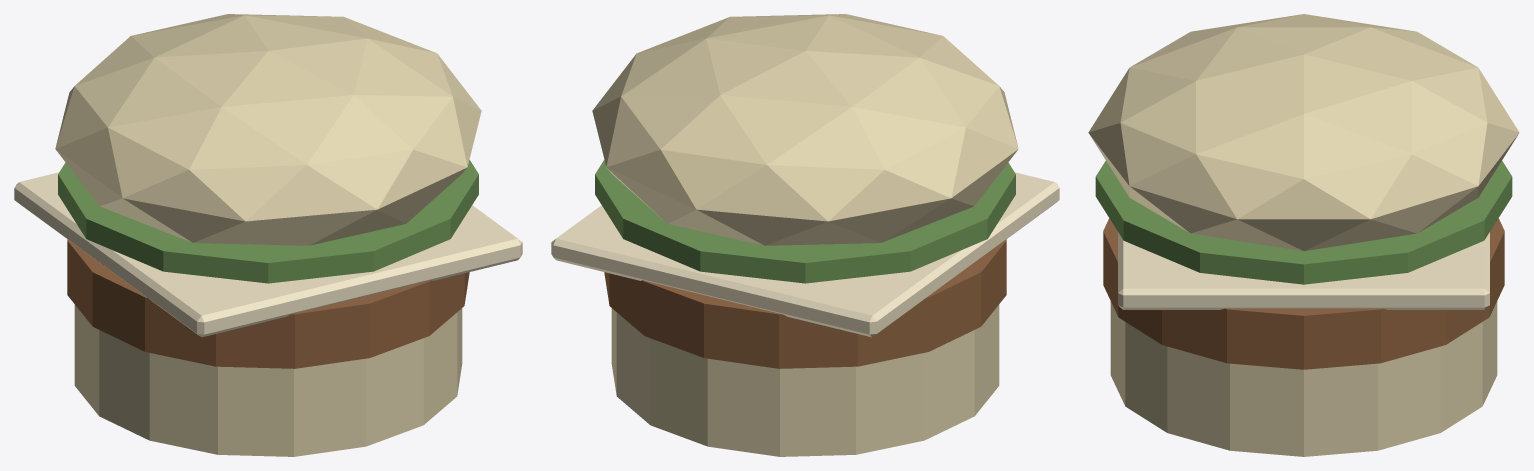
File: Burger_A.glb
3 views of the same model, side by side, from view 1: azimuth 30°, elevation 25°; view 2: azimuth 150°, elevation 25°; view 3: azimuth 270°, elevation 25° (orthographic).
Visible parts, largest first — view 1: Burger_A; view 2: Burger_A; view 3: Burger_A.
Part boxes in pixels (left/top/right/bottom): Burger_A: left=14, top=14, right=522, bottom=456; Burger_A: left=551, top=14, right=1059, bottom=456; Burger_A: left=1088, top=14, right=1519, bottom=456.
Size of the model in its own units: 0.28 by 0.238 by 0.29.
